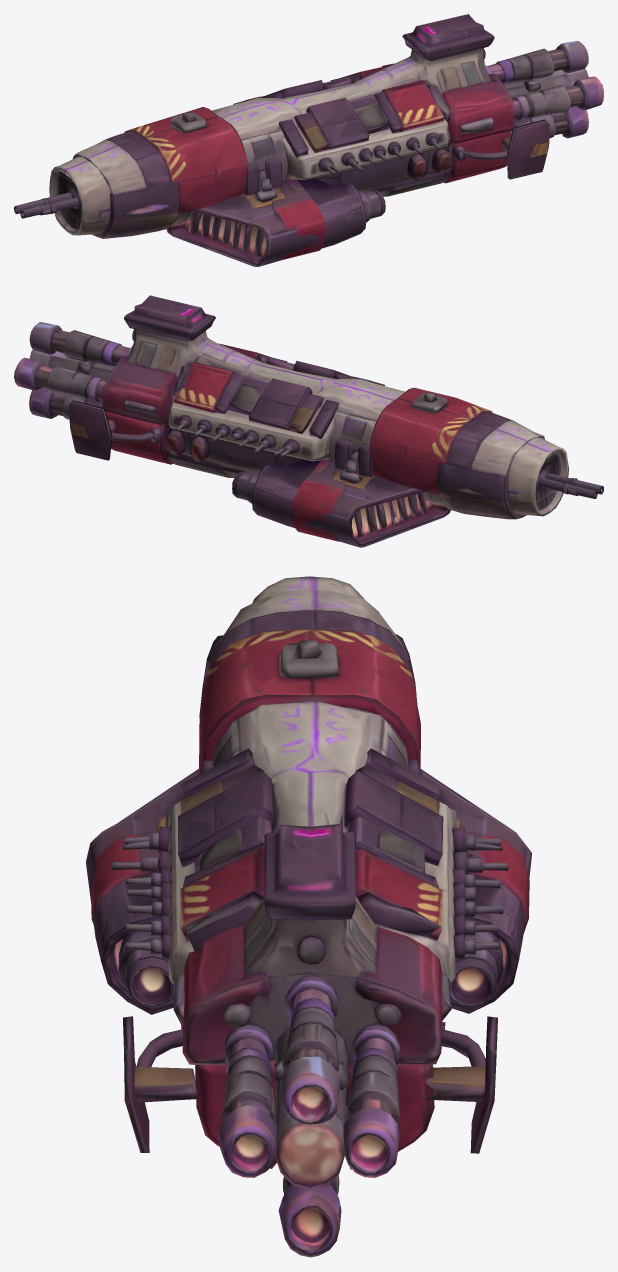
File: lastlight.glb
The picture shows the model from 3 angles, top to bottom: view 1: azimuth 30°, elevation 25°; view 2: azimuth 150°, elevation 25°; view 3: azimuth 270°, elevation 25°; orthographic projection. The views are drawn at different scales.
Parts seen in each view (by area): view 1: geometry_0; view 2: geometry_0; view 3: geometry_0.
Boxes of the visible parts, x1,y1,x2,y2 form: geometry_0: (14, 14, 603, 266); geometry_0: (14, 295, 603, 547); geometry_0: (86, 576, 531, 1257).
Size of the model in its own units: 1 by 0.2567 by 0.343.
1 material, 1 textured.
